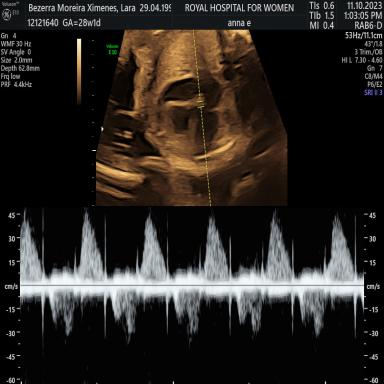Ultrasound-Waves: (28, 208, 357, 384)
